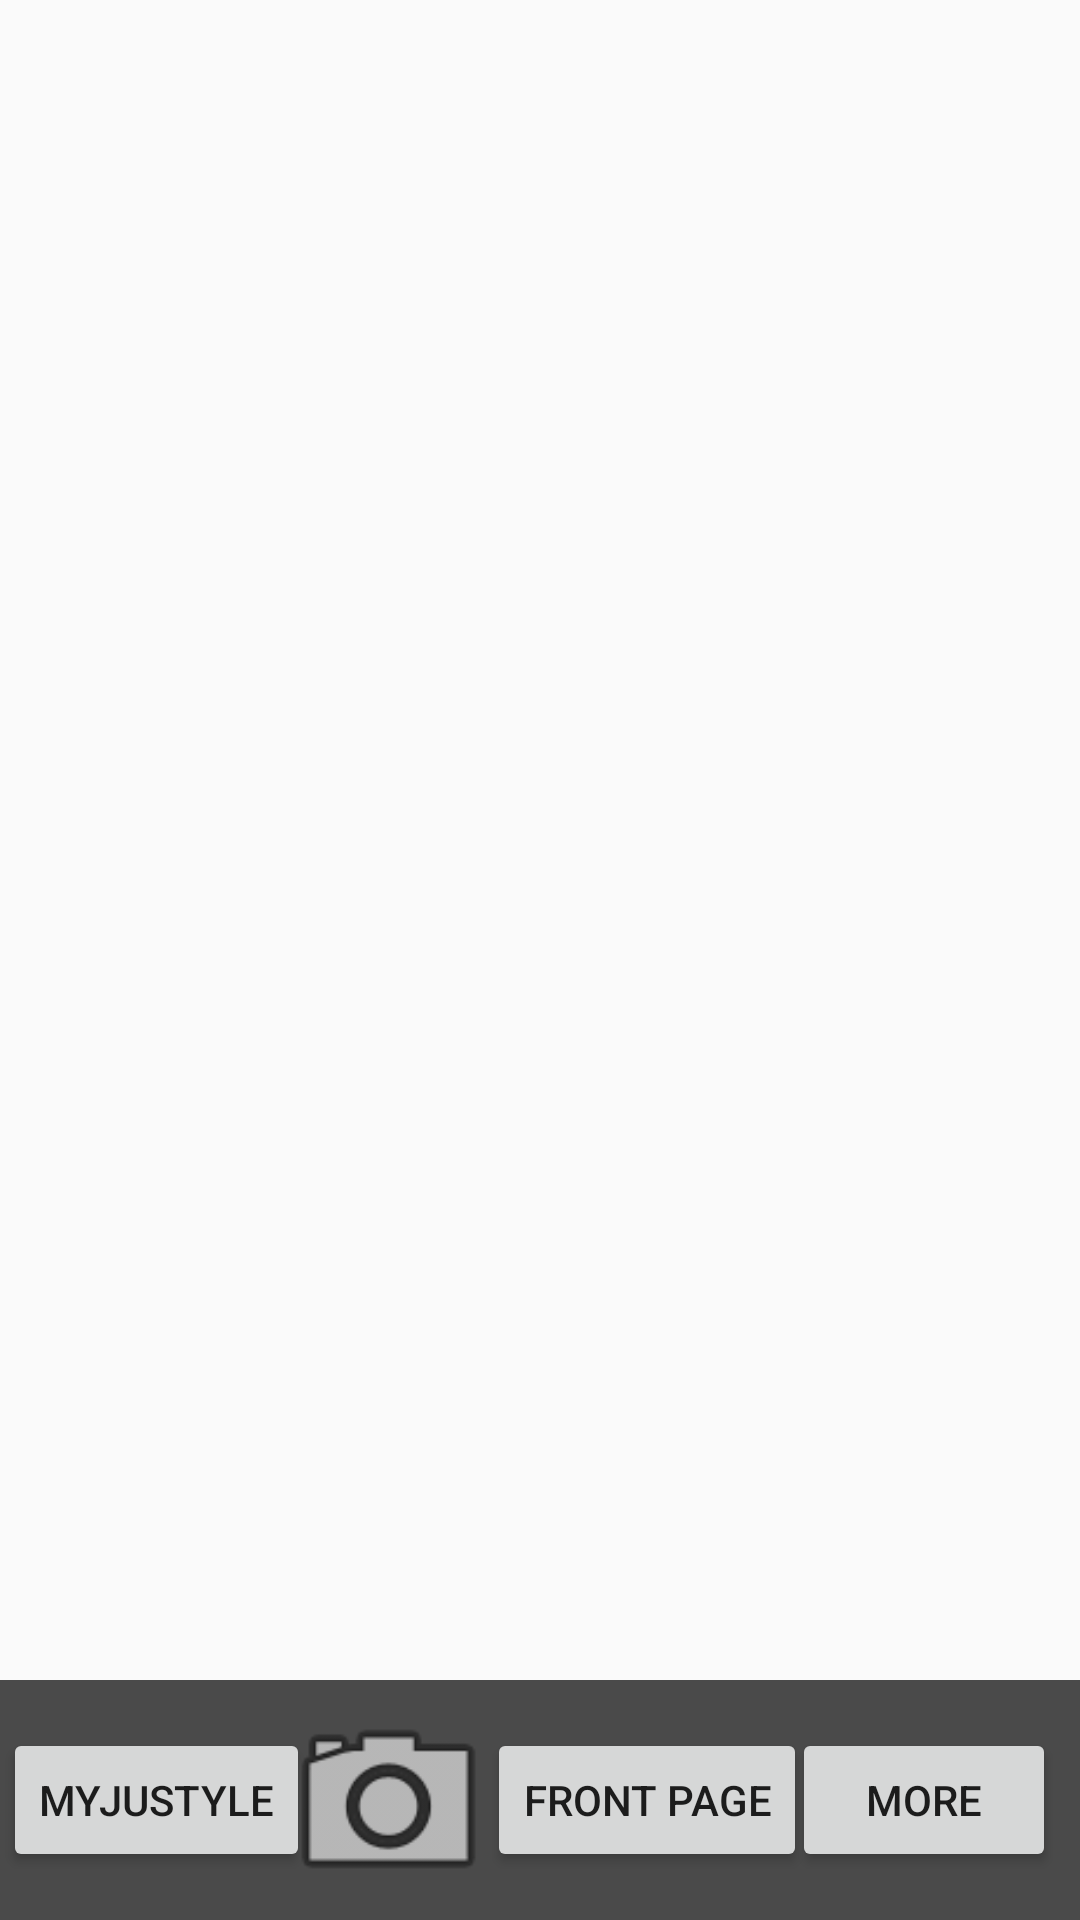

Icon click points for this 1080w x 1920h phone screenshot, format point (x, y):
camera: point (388, 1799)
